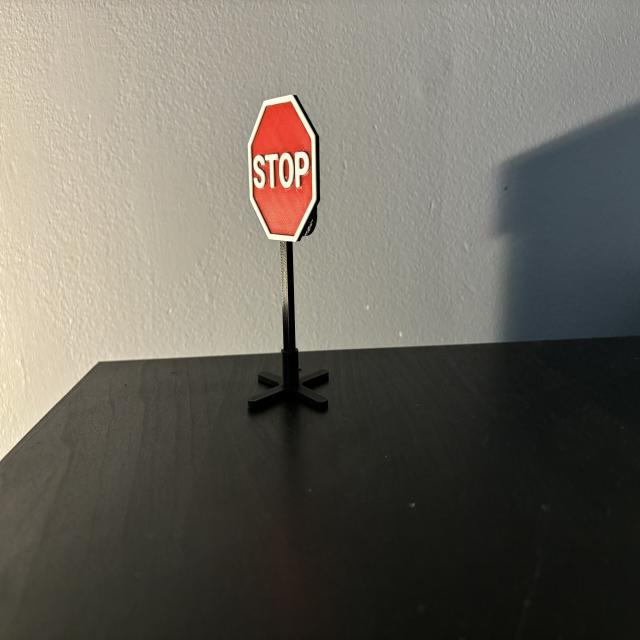sign_stop: (250, 97, 317, 243)
